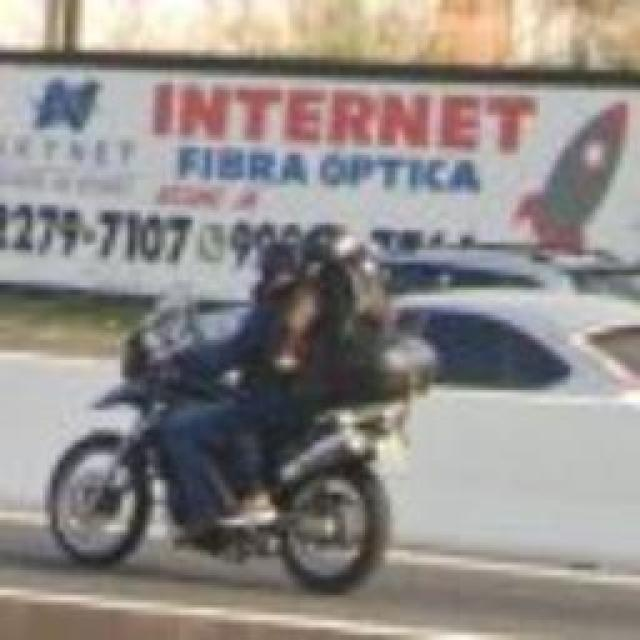car: (96, 298, 640, 403), (332, 247, 635, 305)
motorbike: (51, 222, 406, 606)
